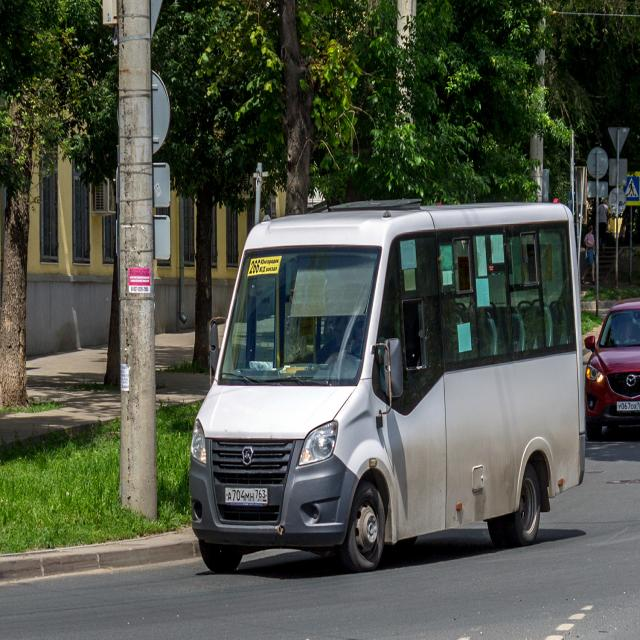number-of-bus: (249, 259, 262, 276)
